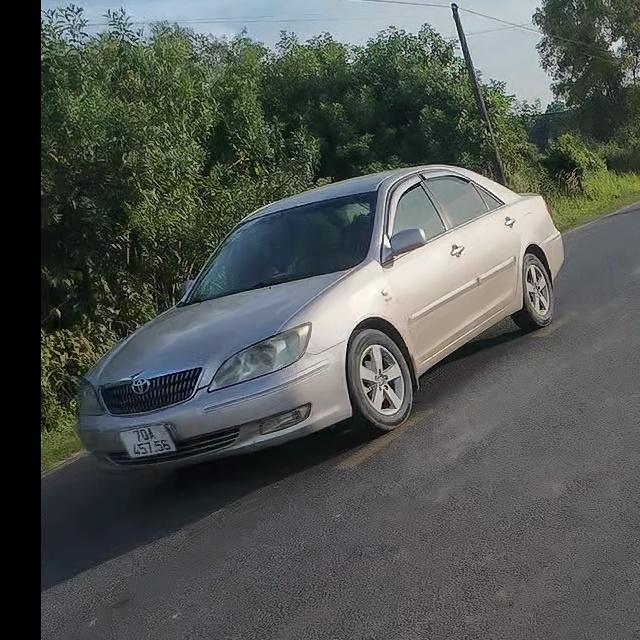car: (79, 160, 573, 478)
plate: (116, 416, 178, 464)
